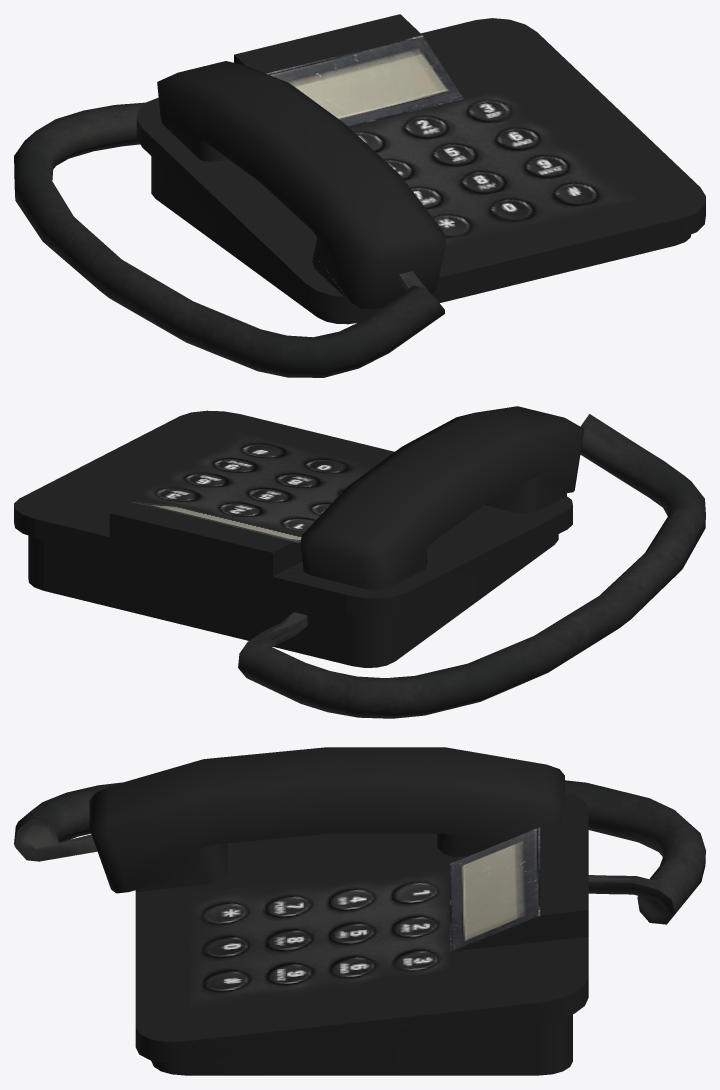
File: CR_Phone.fbx
3 renders of one model, top to bottom at view 1: azimuth 30°, elevation 25°; view 2: azimuth 150°, elevation 25°; view 3: azimuth 270°, elevation 25°, orthographic. The views are drawn at different scales.
Visible parts, largest first — view 1: Phone; view 2: Phone; view 3: Phone.
Part boxes in pixels (x1=…): Phone: x1=14, y1=14, x2=705, y2=377; Phone: x1=14, y1=406, x2=705, y2=718; Phone: x1=14, y1=747, x2=705, y2=1075.
Bounding box in the file's own units: 29.67 × 7.13 × 30.85.
